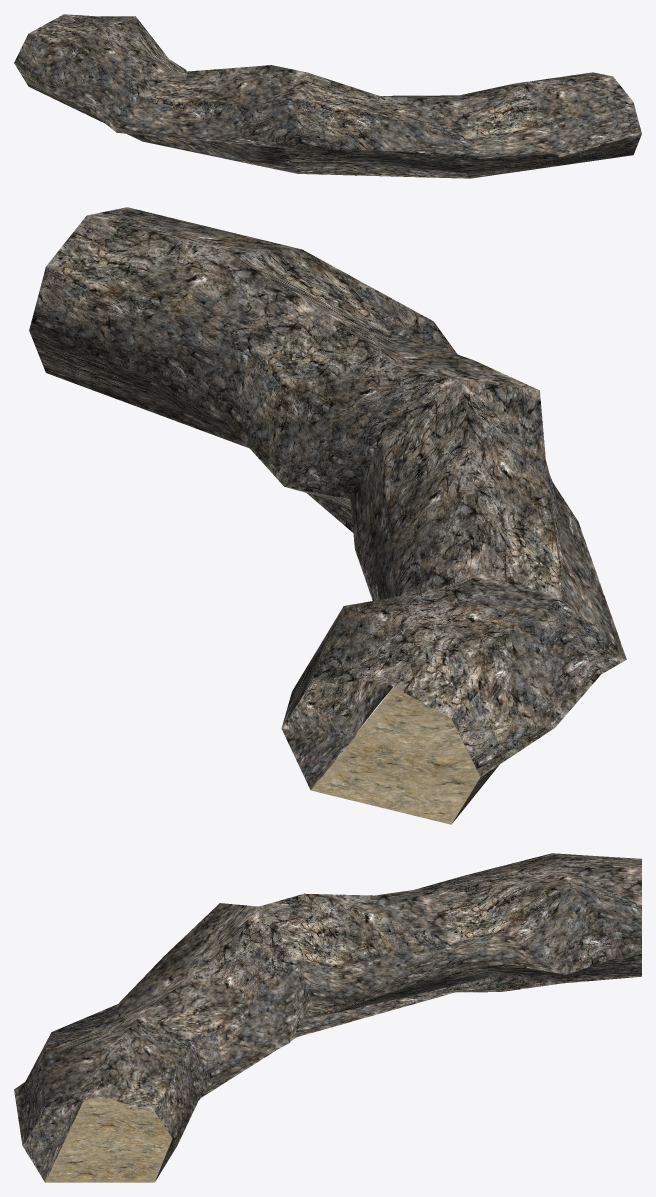
File: pir_m_are_cav_curveNarrowLeft.fbx
3 views of the same model, one above another, from view 1: azimuth 30°, elevation 25°; view 2: azimuth 150°, elevation 25°; view 3: azimuth 270°, elevation 25° (orthographic). The views are drawn at different scales.
Visible parts, largest first — view 1: standardCurveNarrow_wall; view 2: standardCurveNarrow_wall, standardCurveNarrow_floor; view 3: standardCurveNarrow_wall, standardCurveNarrow_floor.
Part boxes in pixels (<box>): standardCurveNarrow_wall: <box>14,14,641,178</box>; standardCurveNarrow_wall: <box>29,207,626,823</box>; standardCurveNarrow_floor: <box>311,687,480,824</box>; standardCurveNarrow_wall: <box>14,853,641,1182</box>; standardCurveNarrow_floor: <box>45,1096,172,1182</box>.
Size of the model in its own units: 20129 by 4152 by 20273.
2 materials, 2 textured.
